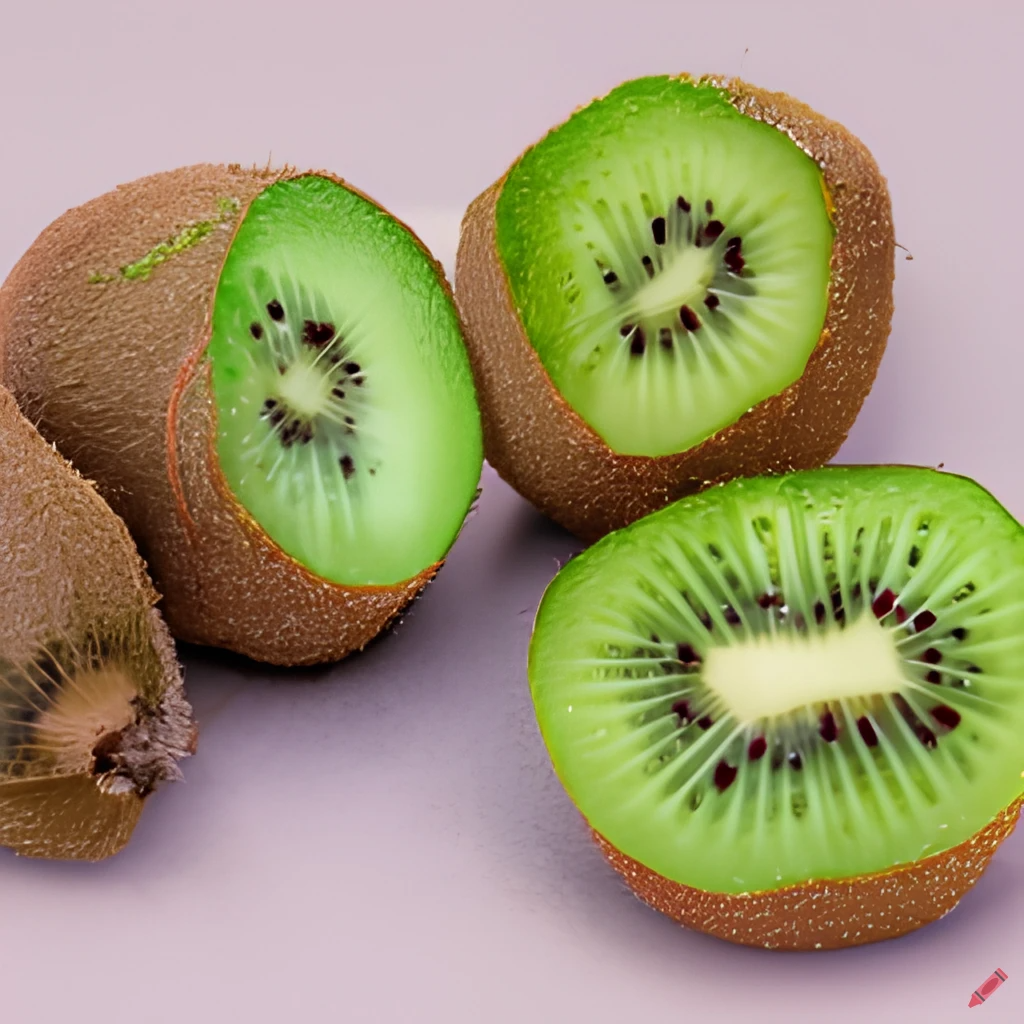Kiwi: (526, 471, 1024, 936)
